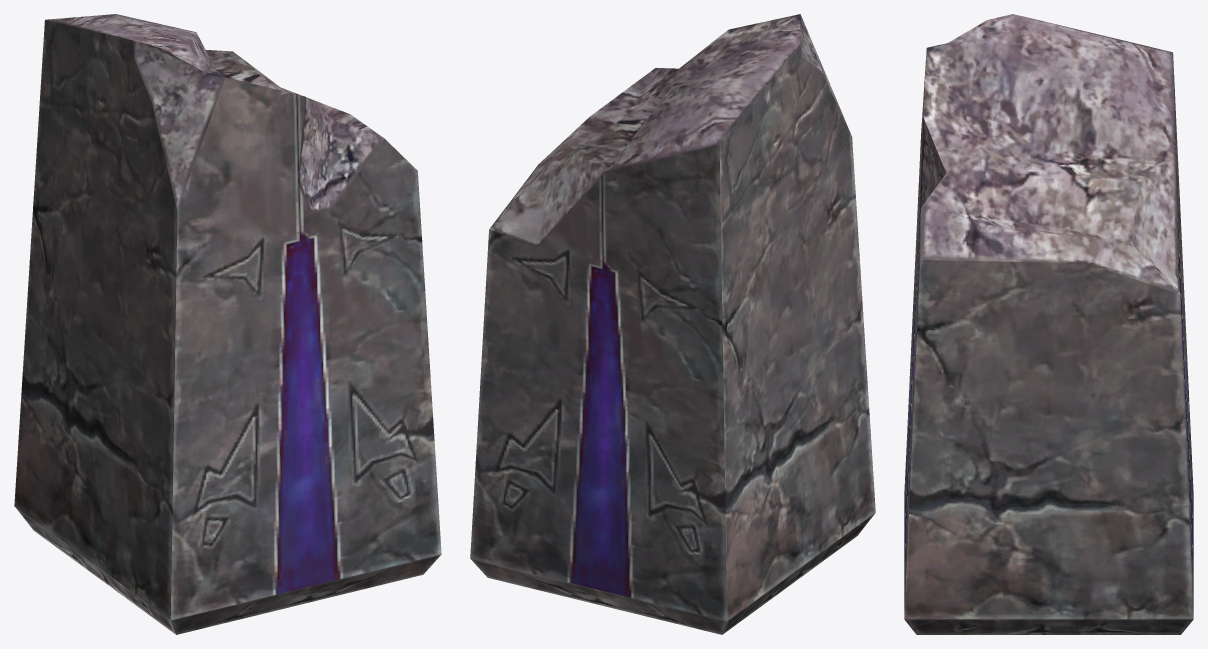
Rendered from all_item_sith_gravestones_01.glb.
3 views of the same model, side by side, from view 1: azimuth 30°, elevation 25°; view 2: azimuth 150°, elevation 25°; view 3: azimuth 270°, elevation 25° (orthographic). The views are drawn at different scales.
Visible parts, largest first — view 1: all_item_sith_gravestones_01; view 2: all_item_sith_gravestones_01; view 3: all_item_sith_gravestones_01.
Boxes of the visible parts, left/top/right/bottom form: all_item_sith_gravestones_01: left=14, top=14, right=441, bottom=634; all_item_sith_gravestones_01: left=470, top=14, right=875, bottom=634; all_item_sith_gravestones_01: left=904, top=14, right=1193, bottom=634.
Size of the model in its own units: 0.1023 by 0.2001 by 0.1023.
1 material, 1 textured.
